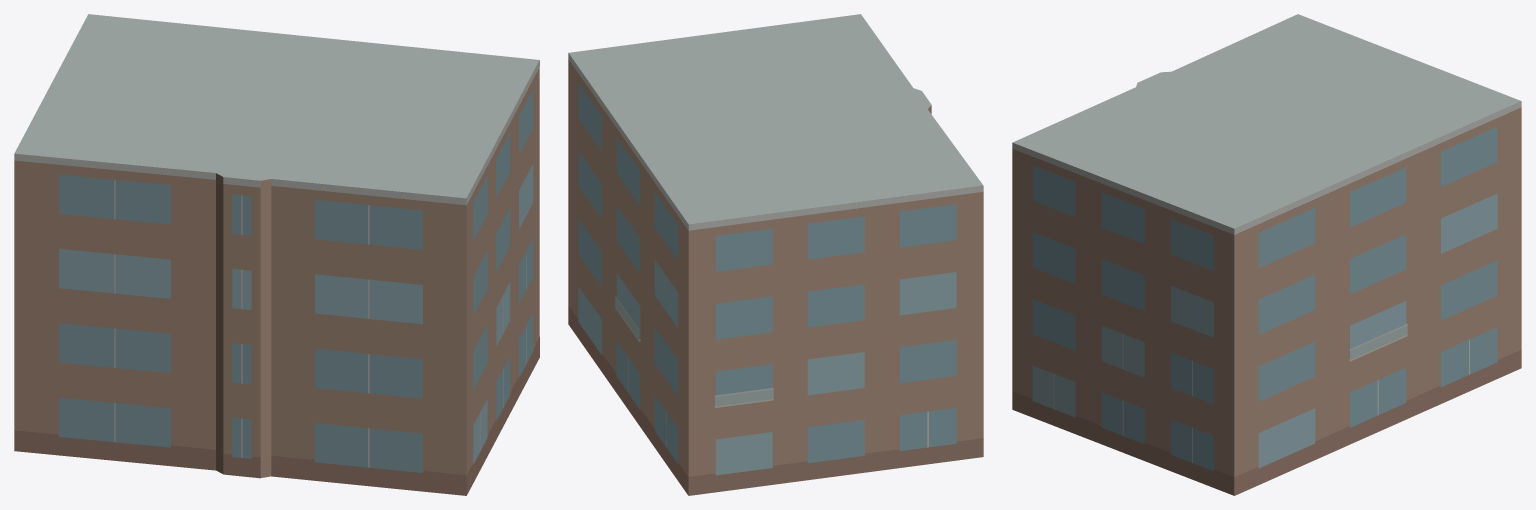
File: survey-upis-32835945.glb
The picture shows the model from 3 angles, left to right: view 1: azimuth 30°, elevation 25°; view 2: azimuth 150°, elevation 25°; view 3: azimuth 270°, elevation 25°; orthographic projection. The views are drawn at different scales.
Visible parts, largest first — view 1: survey-upis-32835945.tmp; view 2: survey-upis-32835945.tmp; view 3: survey-upis-32835945.tmp.
Boxes of the visible parts, x1,y1,x2,y2 form: survey-upis-32835945.tmp: (14,14,539,495); survey-upis-32835945.tmp: (568,14,983,495); survey-upis-32835945.tmp: (1012,14,1521,495).
Size of the model in its own units: 18.29 by 10.6 by 18.32.
